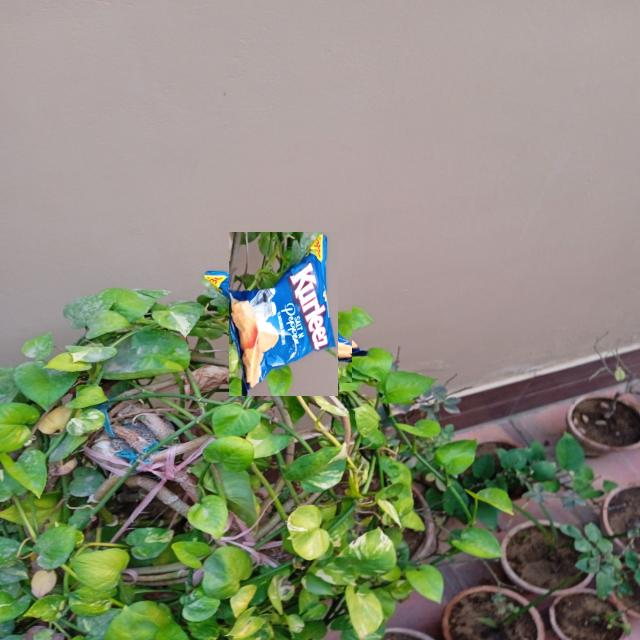Plastic: (215, 245, 352, 383)
